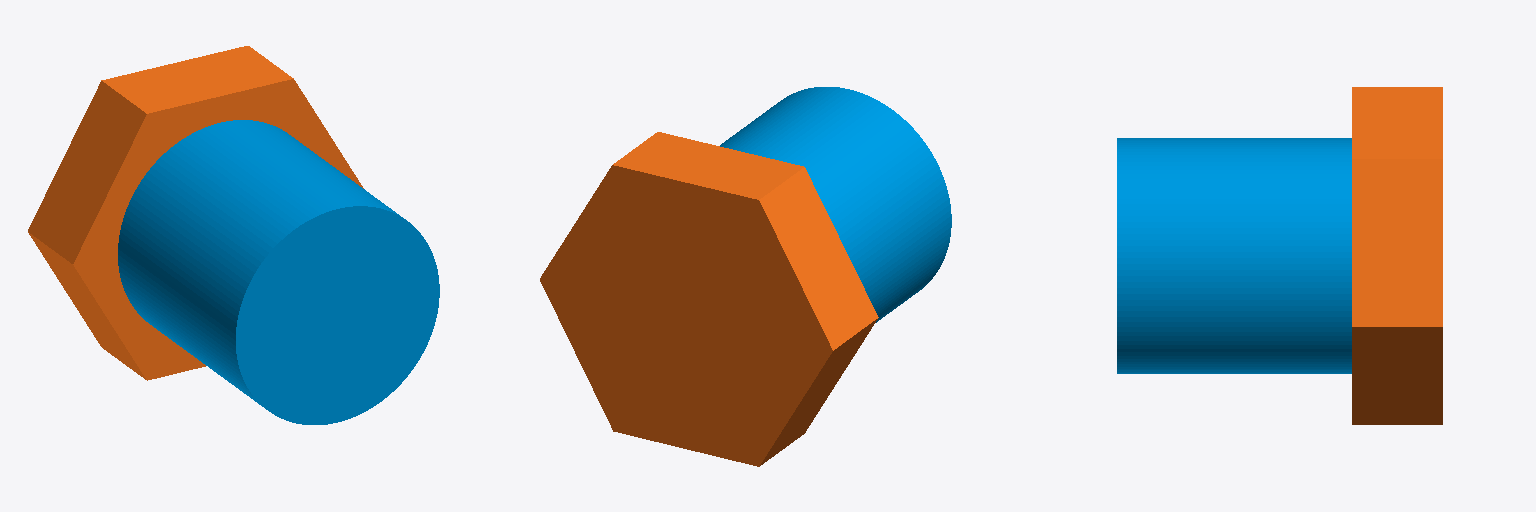
File: ball.obj
3 renders of one model, left to right at view 1: azimuth 30°, elevation 25°; view 2: azimuth 150°, elevation 25°; view 3: azimuth 270°, elevation 25°, orthographic.
Visible parts, largest first — view 1: Object.1; view 2: Object.1; view 3: Object.1.
Part boxes in pixels (bbox=[...]): Object.1: bbox=[28, 46, 439, 424]; Object.1: bbox=[540, 87, 951, 466]; Object.1: bbox=[1117, 87, 1442, 424].
Size of the model in its own units: 57.59 by 50 by 55.49.